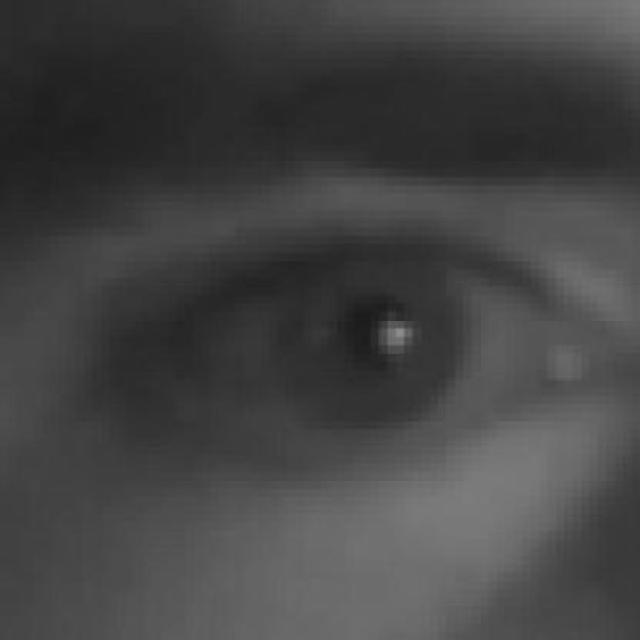awake: (134, 218, 611, 474)
